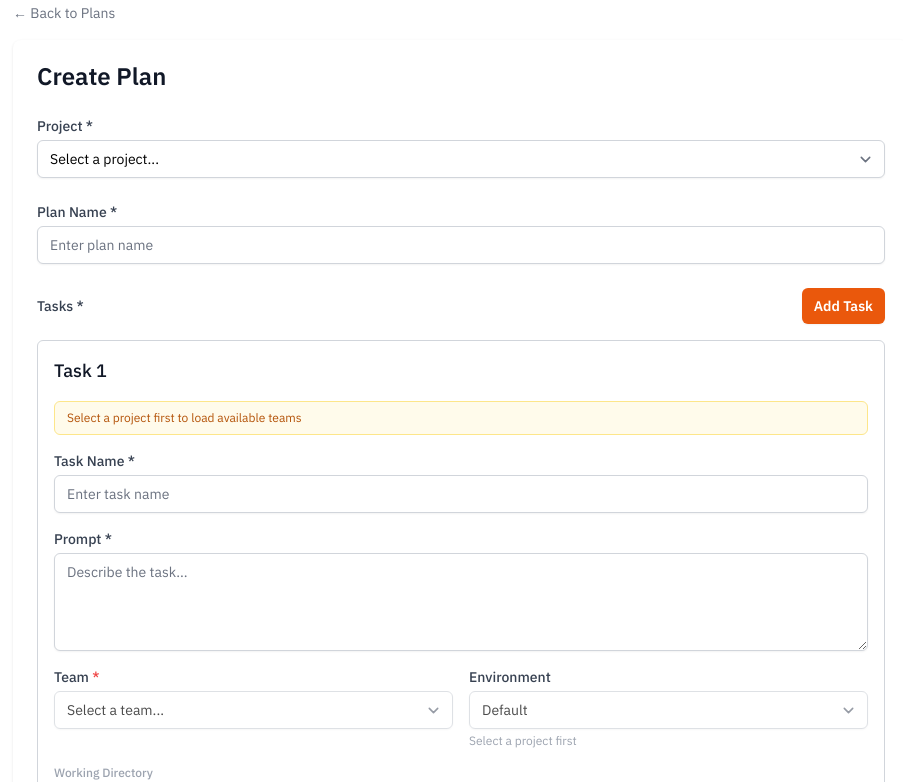
Test: CreatePlanForm › allows adding new tasks
This screenshot has width=903, height=782.
Expected: the number of headings "Task 1" is 1, [54,359,107,382]
Click the button "Add Task": (843,306) [802,288,885,324]
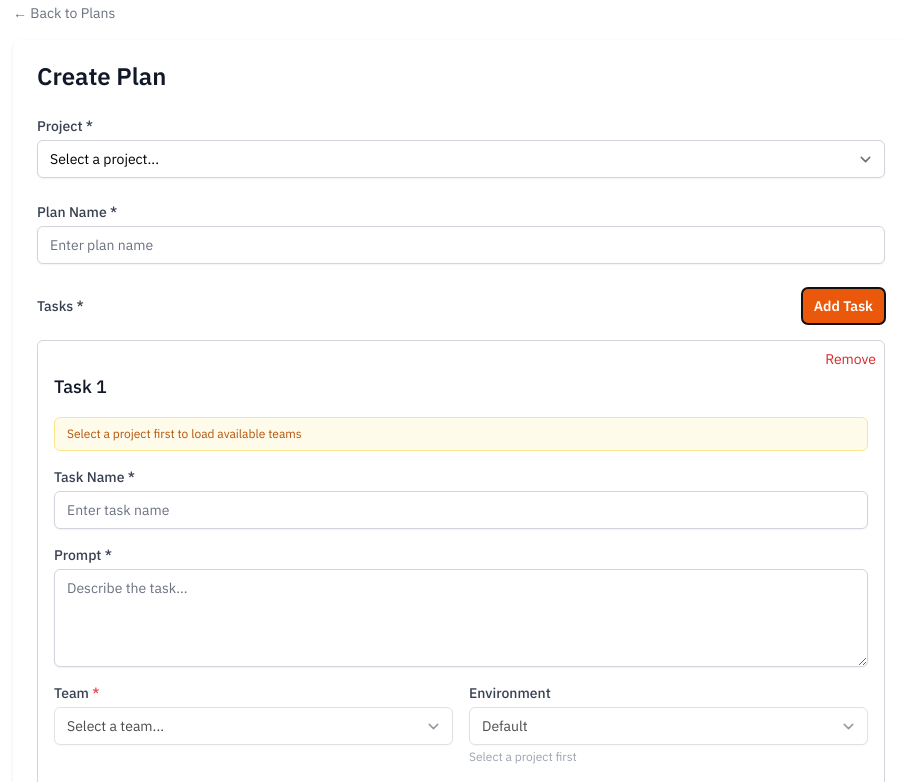
Expected: the number of headings "Task 1" is 2
